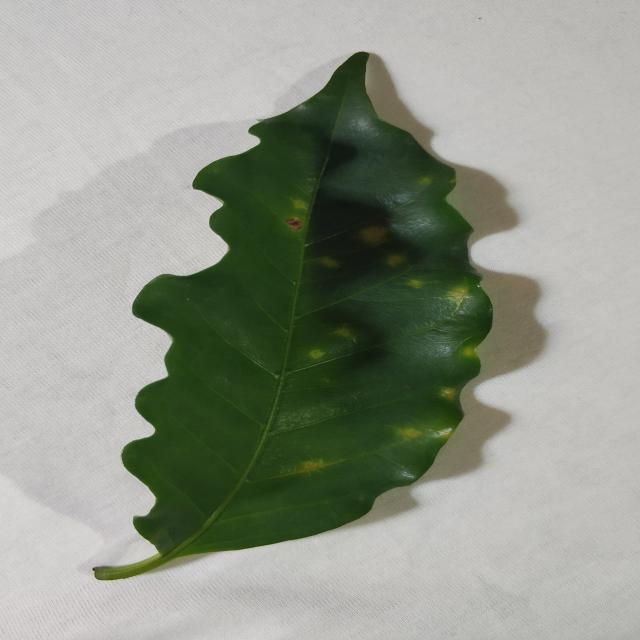Enfermedad-Roya: (91, 52, 496, 583)
